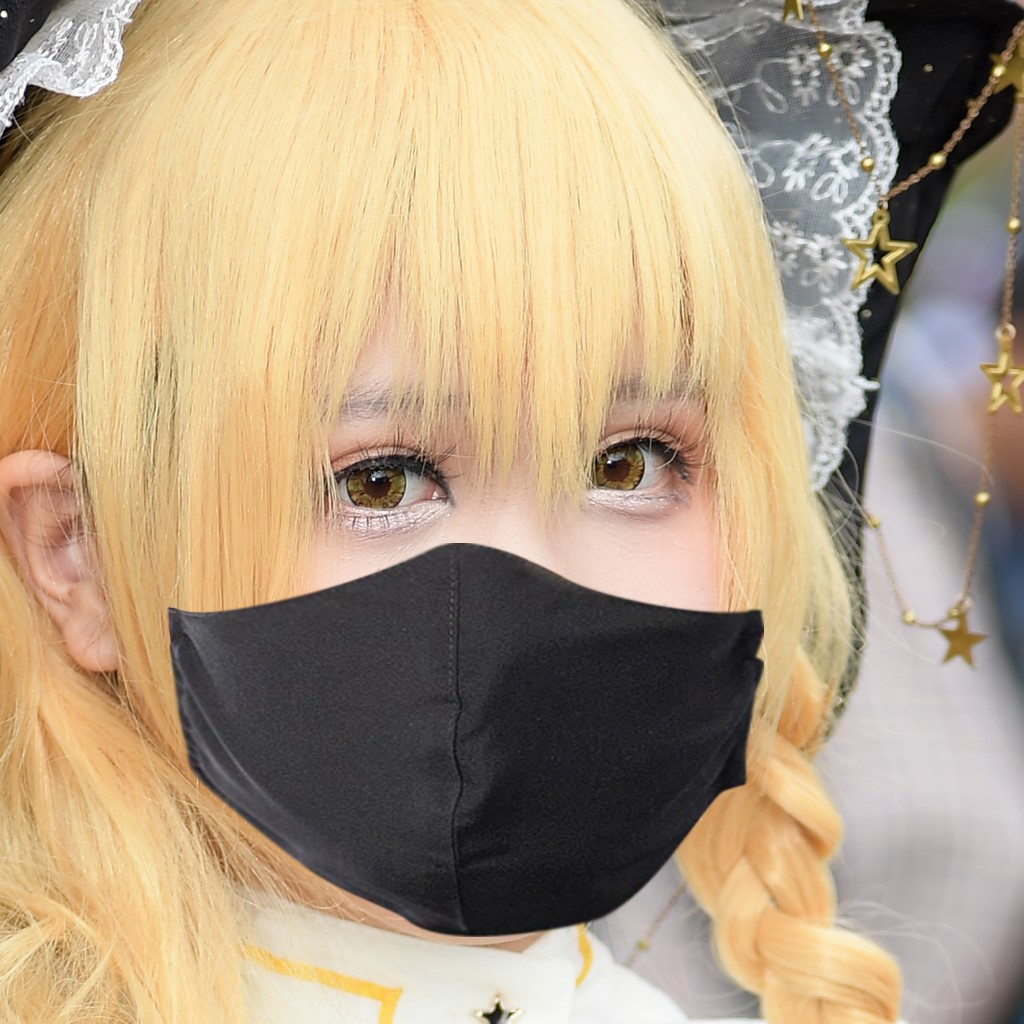con_mascara: (112, 131, 721, 931)
